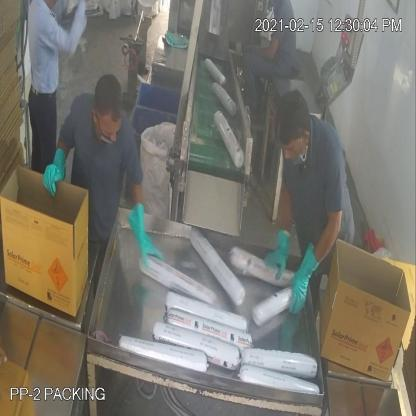glove: (274, 236, 324, 324), (122, 195, 164, 273), (34, 139, 77, 202), (257, 222, 295, 284)
no_glove: (44, 7, 93, 59), (242, 32, 282, 60)
